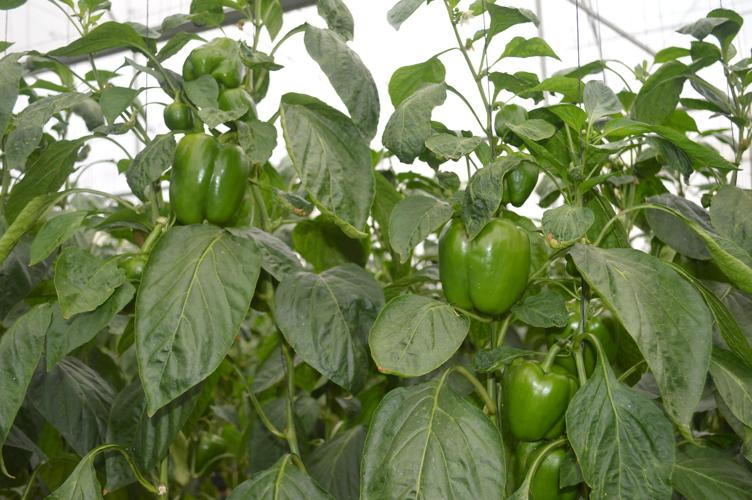BellPepper: (436, 222, 530, 317), (163, 137, 248, 229), (493, 362, 579, 440), (549, 303, 613, 374), (501, 440, 576, 497), (185, 38, 251, 82)
